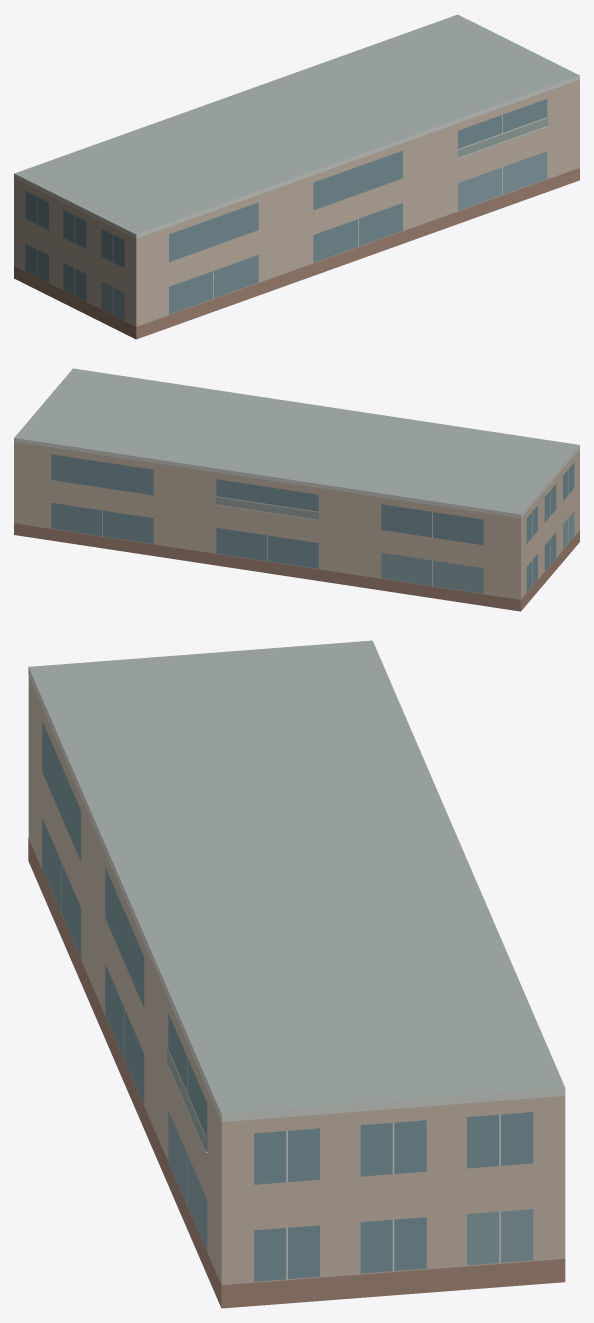
Rendered from survey-upis-32707660.glb.
The picture shows the model from 3 angles, top to bottom: view 1: azimuth 30°, elevation 25°; view 2: azimuth 150°, elevation 25°; view 3: azimuth 270°, elevation 25°; orthographic projection. The views are drawn at different scales.
Visible parts, largest first — view 1: survey-upis-32707660.tmp; view 2: survey-upis-32707660.tmp; view 3: survey-upis-32707660.tmp.
Part boxes in pixels (left/top/right/bottom): survey-upis-32707660.tmp: left=14, top=14, right=579, bottom=339; survey-upis-32707660.tmp: left=14, top=368, right=579, bottom=611; survey-upis-32707660.tmp: left=28, top=640, right=565, bottom=1308.
Bounding box in the file's own units: 31.96 × 6.1 × 15.31.
